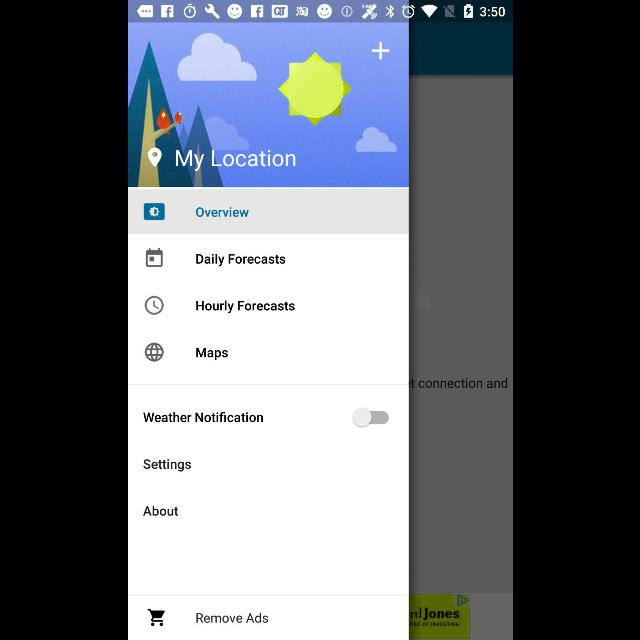icon: (144, 248, 162, 268), (144, 296, 164, 314), (371, 41, 389, 60), (144, 203, 164, 220), (146, 609, 164, 627), (147, 148, 161, 168)
image: (144, 342, 162, 362)
panel: (128, 22, 408, 640)
switch: (352, 408, 388, 428)
text: (175, 150, 295, 172), (196, 300, 294, 314), (142, 412, 262, 422), (195, 254, 285, 266), (196, 612, 268, 624), (143, 458, 191, 472), (196, 206, 248, 218), (195, 348, 227, 360), (142, 506, 178, 516)
uppertaskbar: (128, 1, 512, 23)
